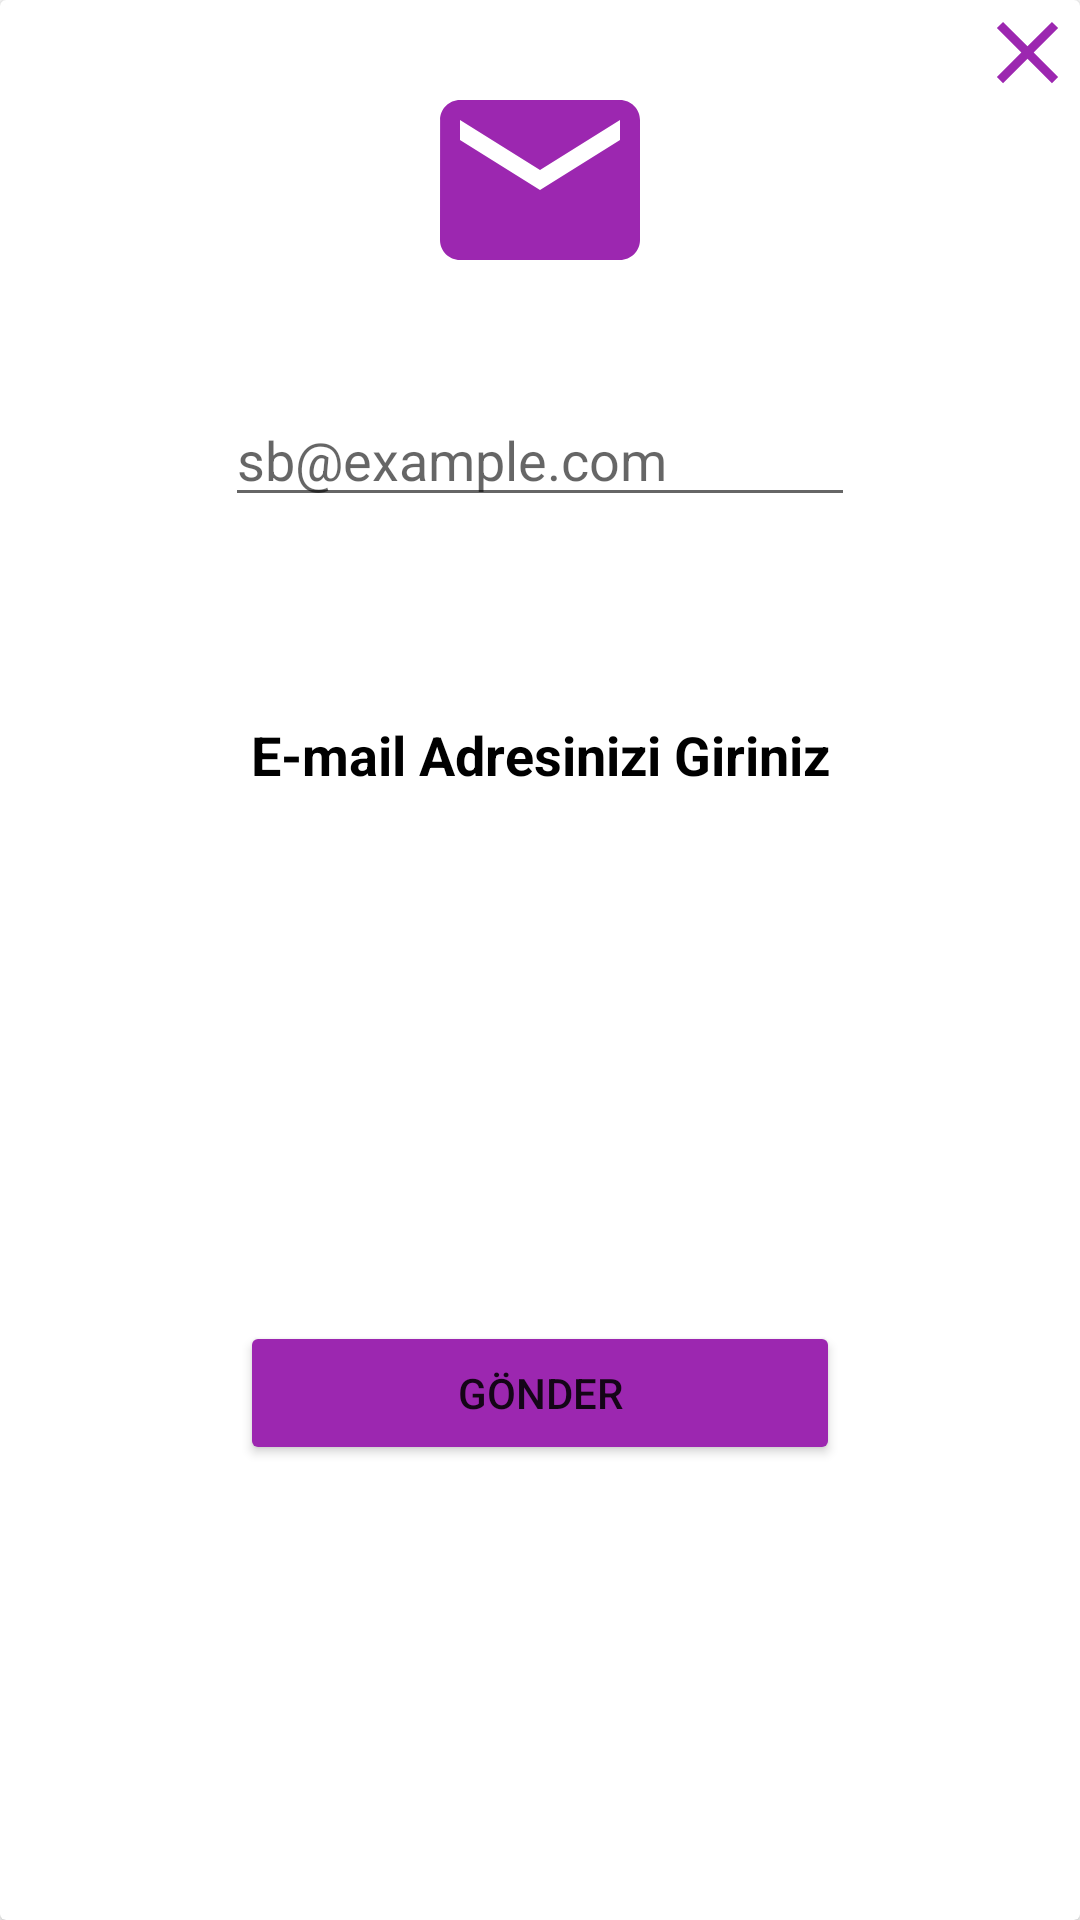

Where icons sit on this 1080*1920 app screen, as (x1, y1, x2, y2):
close: (997, 1, 1080, 83)
email: (440, 100, 640, 260)
